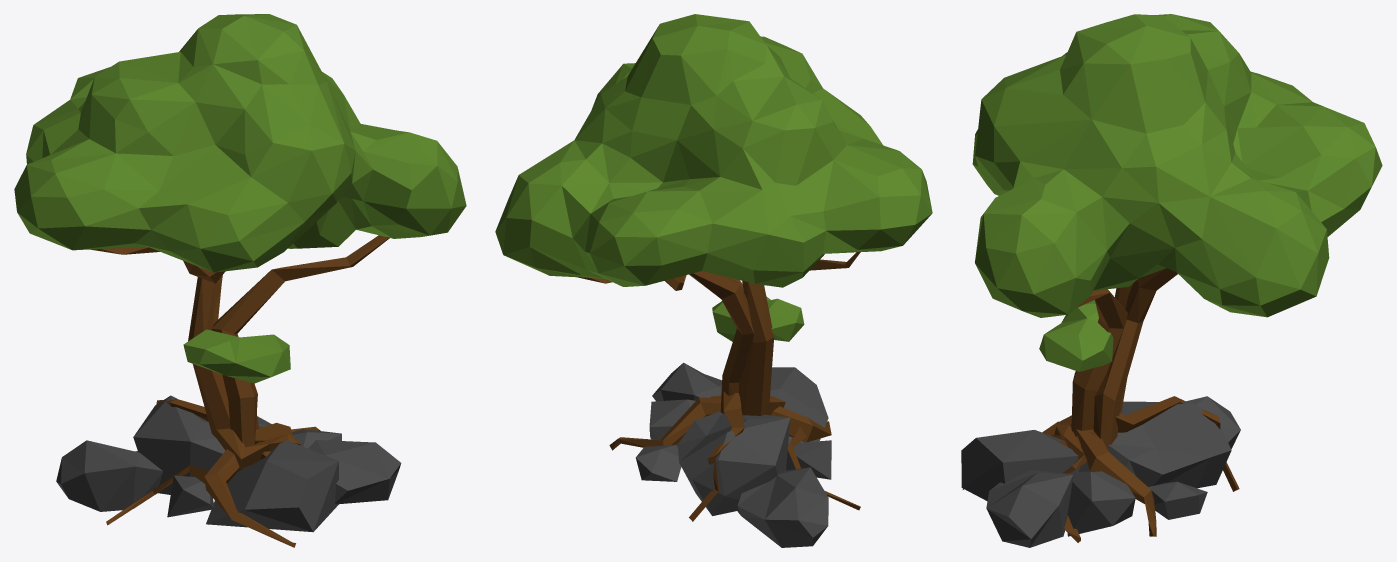
Rendered from Bomen_Eik.fbx.
3 views of the same model, side by side, from view 1: azimuth 30°, elevation 25°; view 2: azimuth 150°, elevation 25°; view 3: azimuth 270°, elevation 25° (orthographic). The views are drawn at different scales.
Visible parts, largest first — view 1: Eik; view 2: Eik; view 3: Eik.
Part boxes in pixels (x1=…): Eik: x1=14, y1=14, x2=466, y2=547; Eik: x1=495, y1=14, x2=932, y2=547; Eik: x1=961, y1=14, x2=1382, y2=547.
Bounding box in the file's own units: 777 × 903 × 698.
